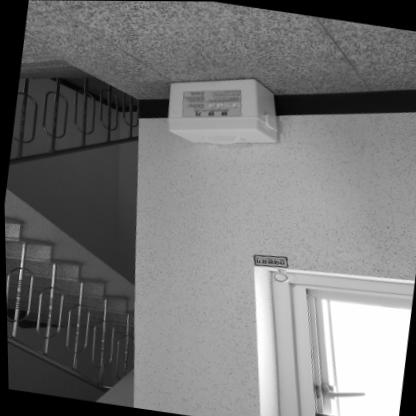DDL: (161, 64, 284, 150)
